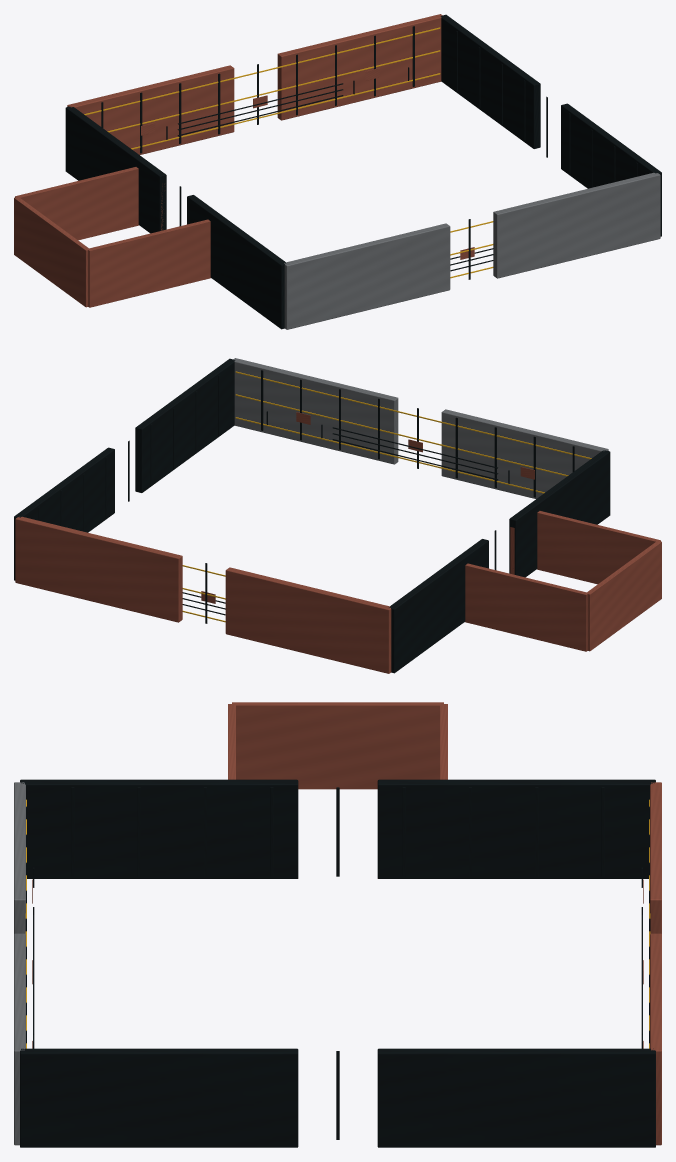
File: STW_INDUSTRIAL_YARD_01_wall.fbx
The picture shows the model from 3 angles, top to bottom: view 1: azimuth 30°, elevation 25°; view 2: azimuth 150°, elevation 25°; view 3: azimuth 270°, elevation 25°; orthographic projection. The views are drawn at different scales.
Visible parts, largest first — view 1: south_concrete_facade_right, south_concrete_facade_left, north_brick_facade_right, north_brick_facade_left, annex_south_wall, east_steel_facade_right, west_steel_facade_left, annex_north_wall, west_steel_facade_right, annex_far_wall, east_steel_facade_left, IY_NorthBand_02 (+2 smaller); view 2: north_brick_facade_right, north_brick_facade_left, south_concrete_facade_right, south_concrete_facade_left, annex_north_wall, east_steel_facade_left, west_steel_facade_right, annex_south_wall, west_steel_facade_left, annex_far_wall, east_steel_facade_right, IY_SouthBand_02 (+2 smaller); view 3: east_steel_facade_left, east_steel_facade_right, west_steel_facade_left, west_steel_facade_right, annex_far_wall, north_brick_facade_right, south_concrete_facade_right, north_brick_facade_left, south_concrete_facade_left.
Boxes of the visible parts, left/top/right/bottom form: south_concrete_facade_right: left=493, top=172, right=660, bottom=278; south_concrete_facade_left: left=284, top=223, right=450, bottom=329; north_brick_facade_right: left=277, top=14, right=442, bottom=120; north_brick_facade_left: left=67, top=65, right=234, bottom=154; annex_south_wall: left=88, top=219, right=210, bottom=307; east_steel_facade_right: left=440, top=14, right=540, bottom=148; west_steel_facade_left: left=187, top=195, right=286, bottom=329; annex_north_wall: left=15, top=167, right=138, bottom=240; west_steel_facade_right: left=65, top=106, right=166, bottom=233; annex_far_wall: left=14, top=197, right=89, bottom=307; east_steel_facade_left: left=561, top=103, right=661, bottom=236; IY_NorthBand_02: left=84, top=27, right=440, bottom=115; north_brick_facade_right: left=15, top=516, right=182, bottom=622; north_brick_facade_left: left=225, top=567, right=391, bottom=673; south_concrete_facade_right: left=233, top=358, right=398, bottom=464; south_concrete_facade_left: left=441, top=409, right=608, bottom=498; annex_north_wall: left=465, top=563, right=587, bottom=651; east_steel_facade_left: left=135, top=358, right=235, bottom=492; west_steel_facade_right: left=389, top=539, right=488, bottom=673; annex_south_wall: left=537, top=511, right=660, bottom=584; west_steel_facade_left: left=509, top=450, right=610, bottom=577; annex_far_wall: left=586, top=541, right=661, bottom=651; east_steel_facade_right: left=14, top=447, right=114, bottom=580; IY_SouthBand_02: left=235, top=371, right=591, bottom=459; east_steel_facade_left: left=20, top=1048, right=298, bottom=1147; east_steel_facade_right: left=377, top=1048, right=655, bottom=1147; west_steel_facade_left: left=20, top=779, right=298, bottom=878; west_steel_facade_right: left=377, top=779, right=655, bottom=878; annex_far_wall: left=232, top=702, right=443, bottom=789; north_brick_facade_right: left=650, top=933, right=661, bottom=1145; south_concrete_facade_right: left=14, top=933, right=25, bottom=1145; north_brick_facade_left: left=650, top=782, right=661, bottom=933; south_concrete_facade_left: left=14, top=782, right=25, bottom=933.
Size of the model in its own units: 3238 by 2445 by 398.
Materials: 4 (4 with a texture image).
